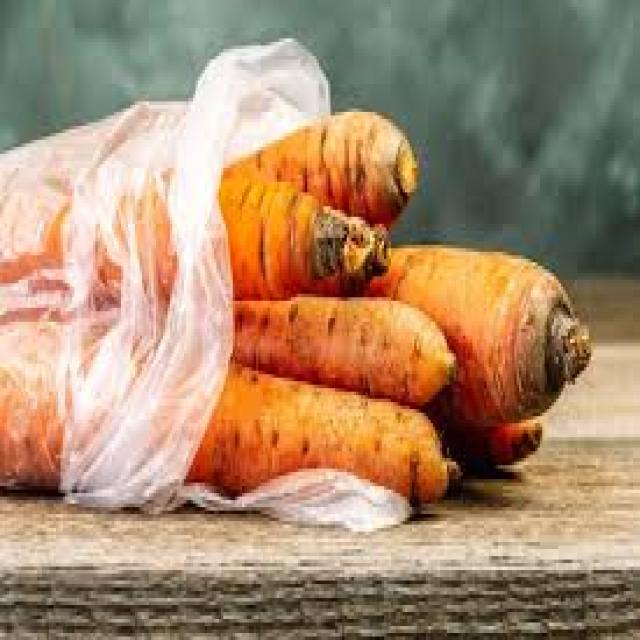Stale_Carrot: (380, 273, 600, 424), (266, 124, 415, 300)
